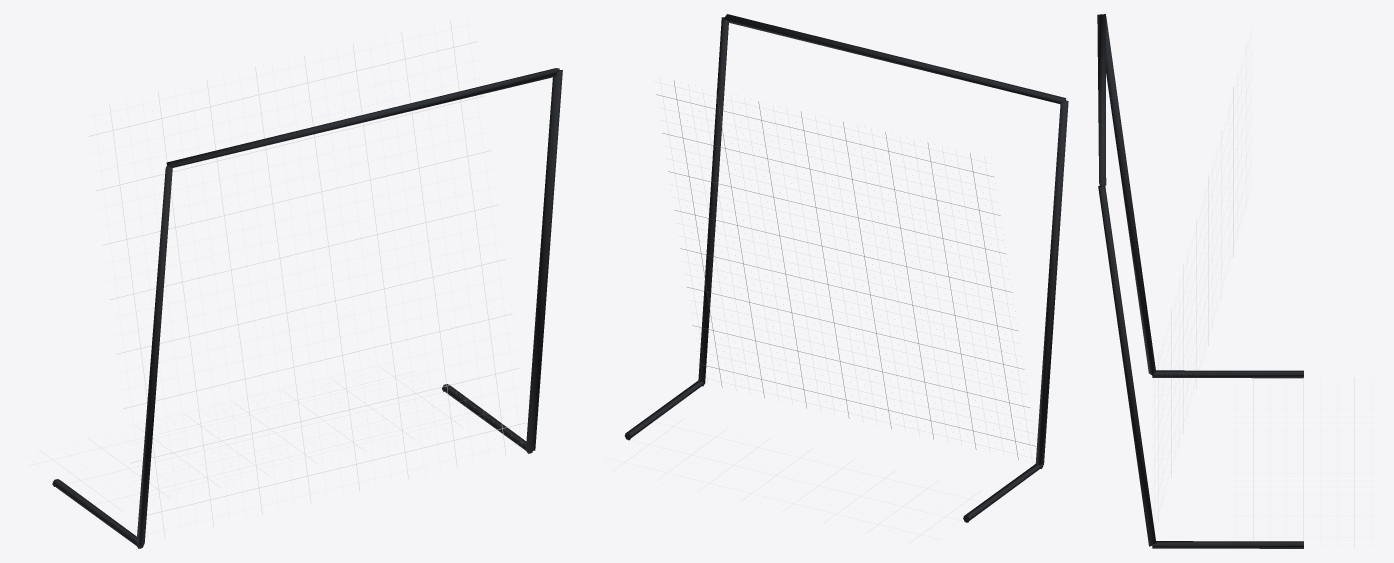
Rendered from kicking_net_lod1.glb.
The picture shows the model from 3 angles, left to right: view 1: azimuth 30°, elevation 25°; view 2: azimuth 150°, elevation 25°; view 3: azimuth 270°, elevation 25°; orthographic projection. The views are drawn at different scales.
Visible parts, largest first — view 1: kicking_net__prop_dark, kicking_net__prop_net; view 2: kicking_net__prop_dark, kicking_net__prop_net; view 3: kicking_net__prop_dark, kicking_net__prop_net.
Part boxes in pixels (x1,y1,x2,y2): kicking_net__prop_dark: (52, 68, 562, 548); kicking_net__prop_net: (28, 18, 526, 538); kicking_net__prop_dark: (624, 14, 1068, 522); kicking_net__prop_net: (604, 81, 1036, 543); kicking_net__prop_dark: (1097, 14, 1303, 548); kicking_net__prop_net: (1171, 88, 1371, 547).
Size of the model in its own units: 2.45 by 2.4 by 1.68.
2 materials, 1 textured.
